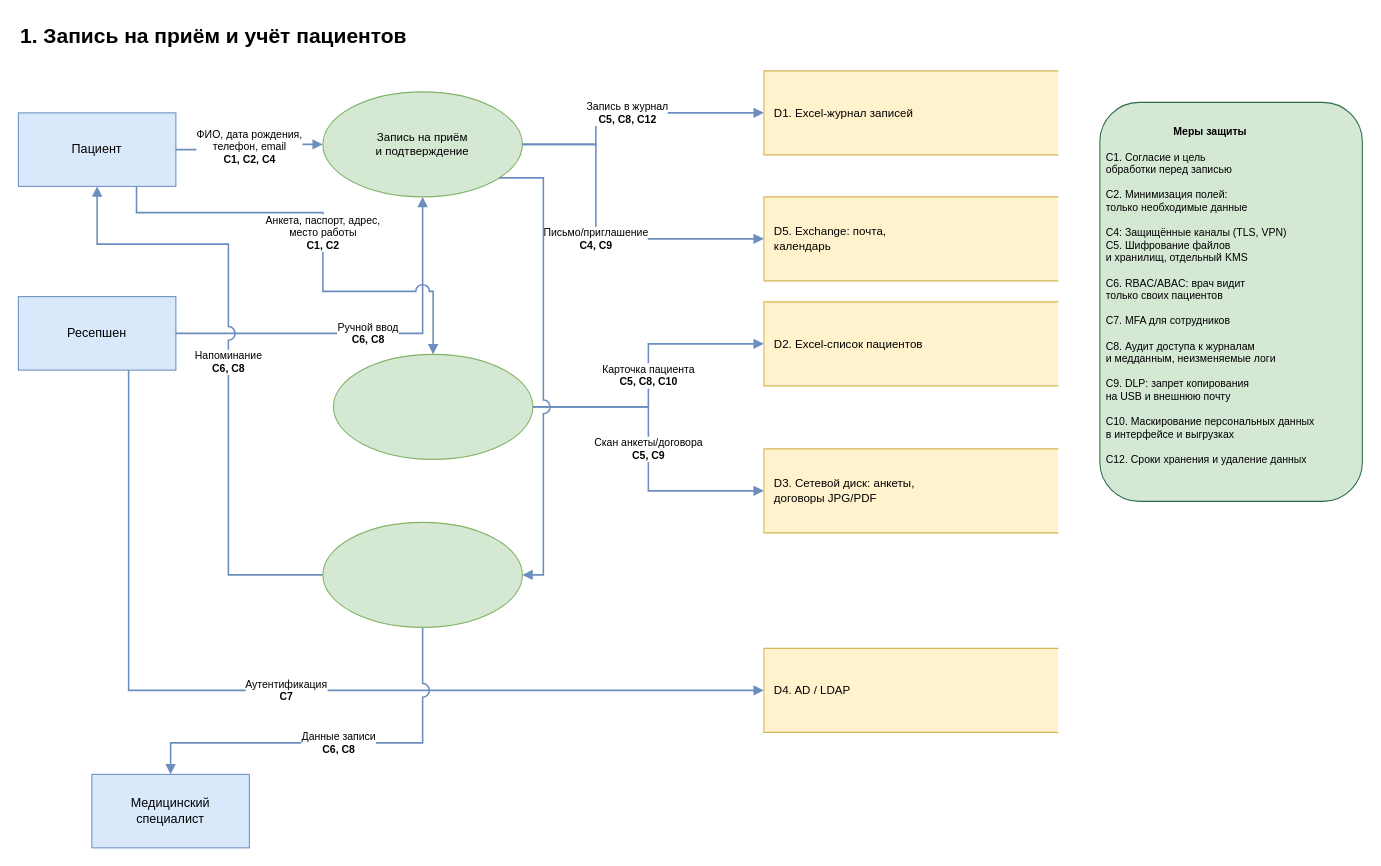
Some shapes in this 1381 by 866 pixel diagram are drawn without their labels. The shapes that lost their labels are listed below. From the top down, each one's centre as x and y in pixels, then its label:
(x=432, y=406): Регистрация пациента и договор
(x=422, y=574): Напоминание о приёме
